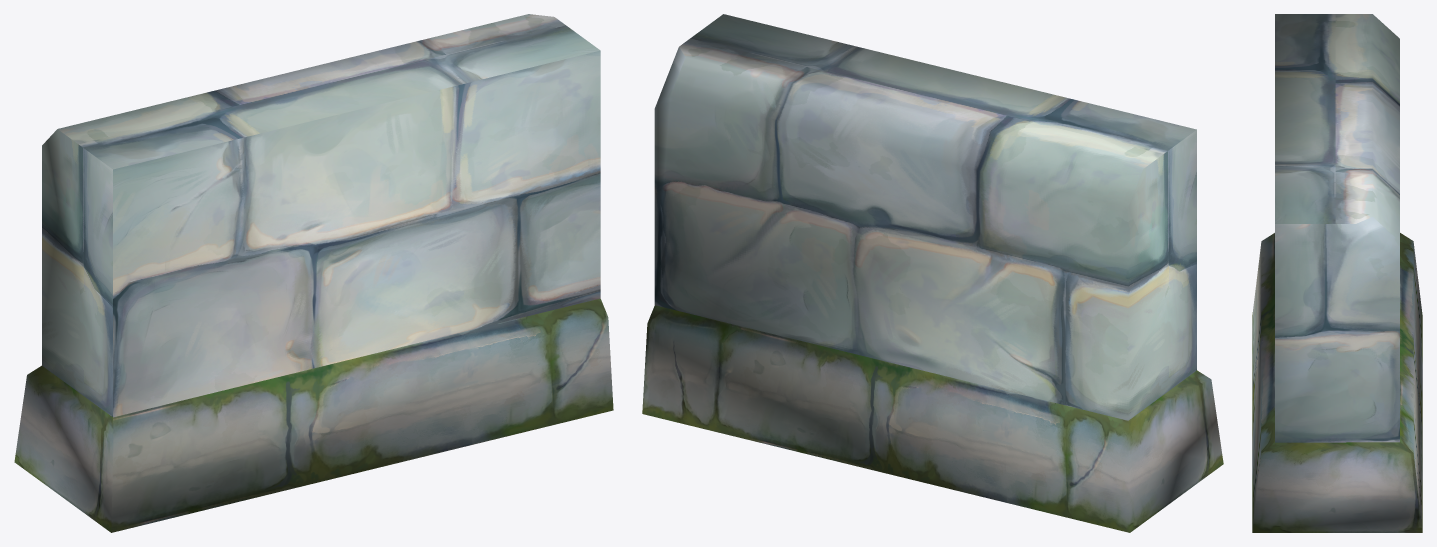
The model's file is geo_temple_obstacle_01.fbx.
The picture shows the model from 3 angles, left to right: view 1: azimuth 30°, elevation 25°; view 2: azimuth 150°, elevation 25°; view 3: azimuth 270°, elevation 25°; orthographic projection. The views are drawn at different scales.
Parts seen in each view (by area): view 1: geo_Temple_Stair_LP.009; view 2: geo_Temple_Stair_LP.009; view 3: geo_Temple_Stair_LP.009.
Part boxes in pixels (x1=…): geo_Temple_Stair_LP.009: x1=14, y1=14, x2=613, y2=532; geo_Temple_Stair_LP.009: x1=642, y1=14, x2=1223, y2=532; geo_Temple_Stair_LP.009: x1=1252, y1=14, x2=1422, y2=532.
Bounding box in the file's own units: 3 × 2 × 1.
